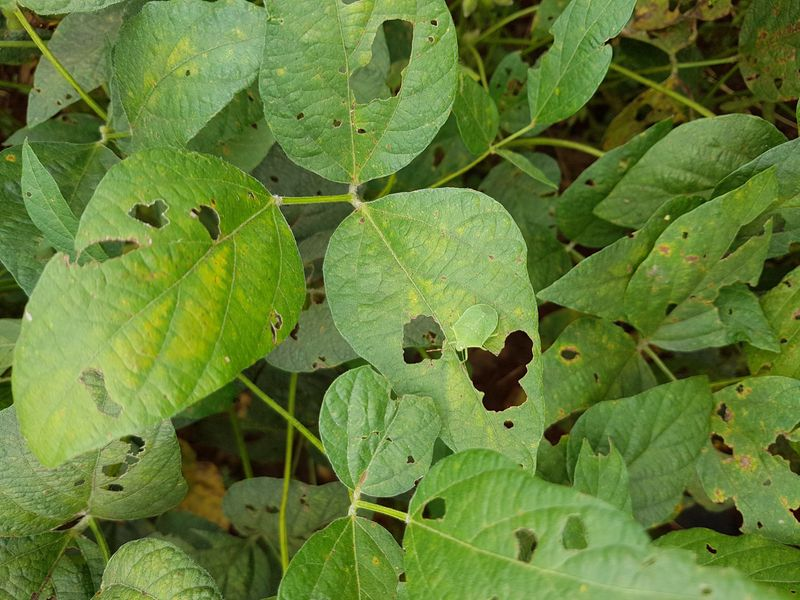Nezara_viridula_adulto: (424, 295, 507, 372)
